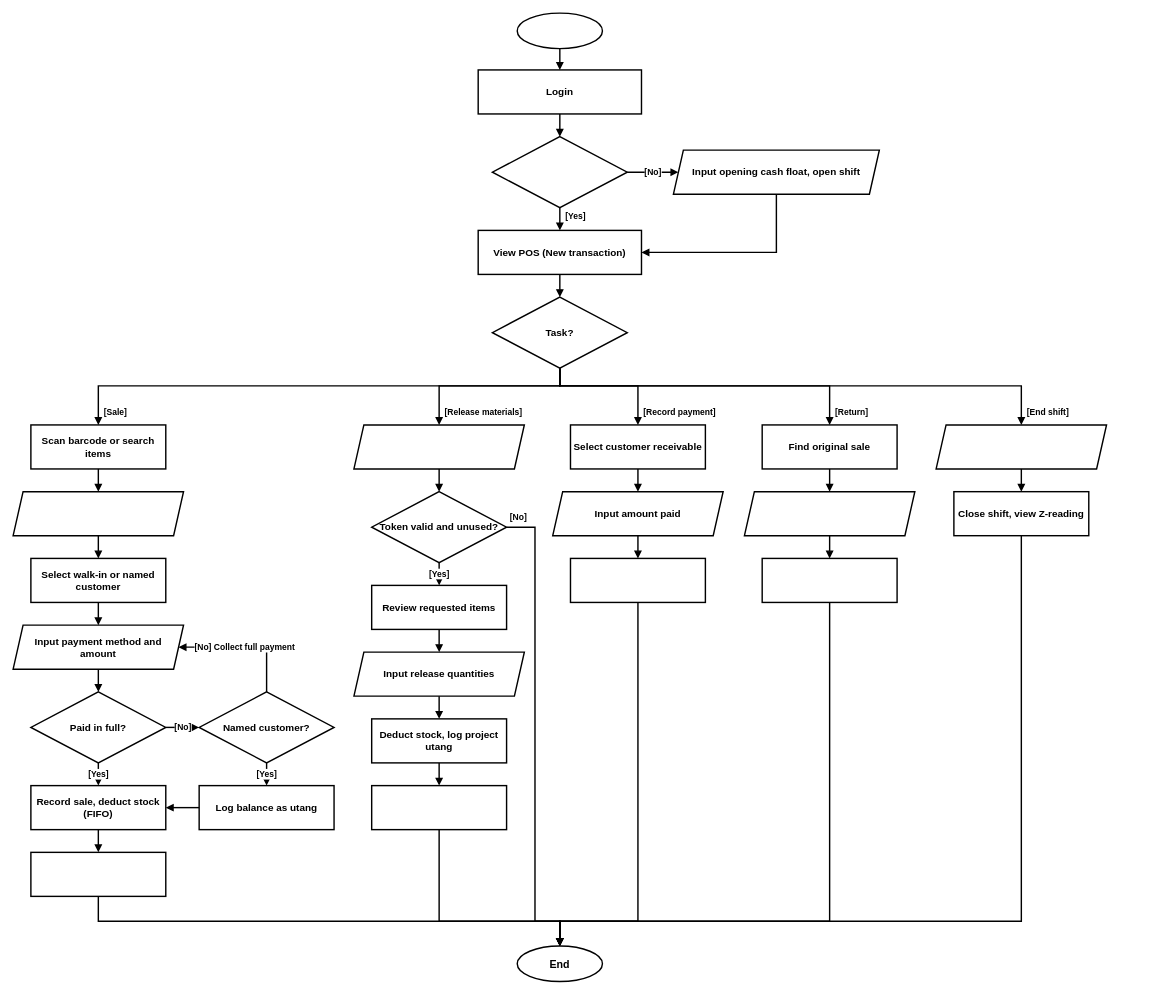
This 1172x994 diagram has some shape labels left out. Each missing label, with the centre of its shape:
Input counted cash: (1021,446)
Input quantity and unit: (98,513)
Input returned items: (829,513)
Mark token used: (439,807)
Print receipt: (98,874)
Restock, reduce utang first, then refund: (829,580)
Scan slip QR or type token: (439,446)
Shift open?: (559,172)
Start: (559,30)
Update balance (Partial or Paid): (637,580)
